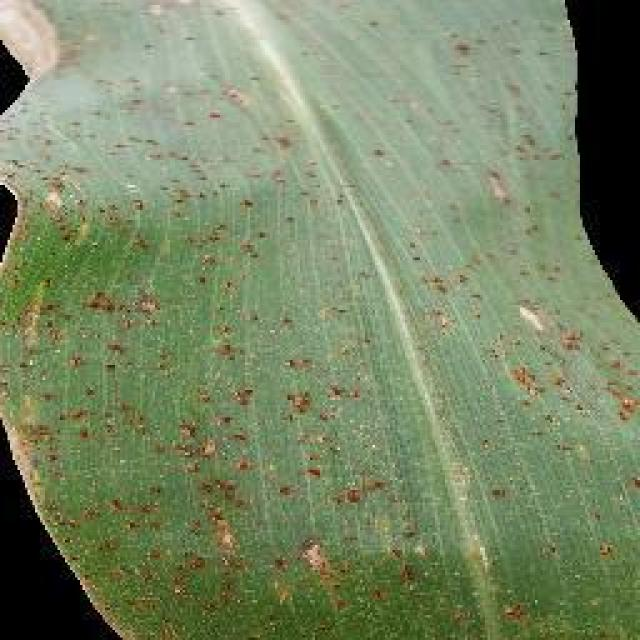Corn Common Rust: (110, 47, 567, 640)
